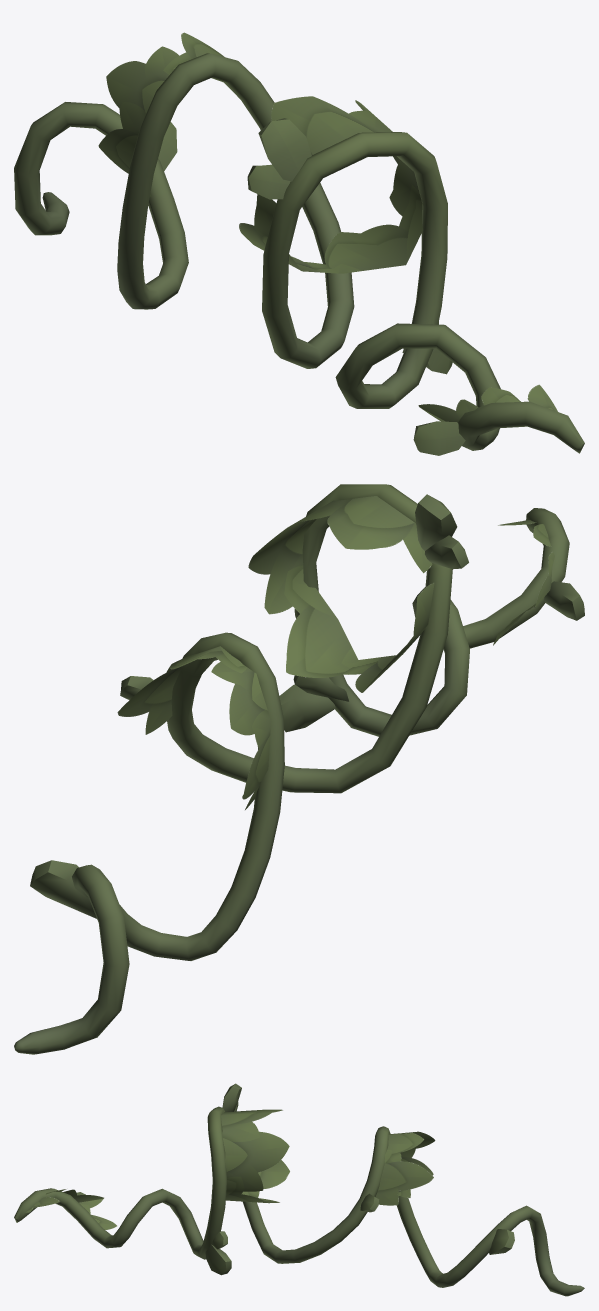
The model's file is Marksman_Rifle_Ghilliewrap.obj.
3 views of the same model, one above another, from view 1: azimuth 30°, elevation 25°; view 2: azimuth 150°, elevation 25°; view 3: azimuth 270°, elevation 25° (orthographic). The views are drawn at different scales.
Visible parts, largest first — view 1: Marksman_Rifle_Ghilliewrap; view 2: Marksman_Rifle_Ghilliewrap; view 3: Marksman_Rifle_Ghilliewrap.
Part boxes in pixels (x1,y1,x2,y2): Marksman_Rifle_Ghilliewrap: [14, 32, 584, 455]; Marksman_Rifle_Ghilliewrap: [14, 484, 584, 1054]; Marksman_Rifle_Ghilliewrap: [14, 1083, 584, 1296].
Bounding box in the file's own units: 0.4949 × 0.7687 × 2.11.
2 materials, 2 textured.
